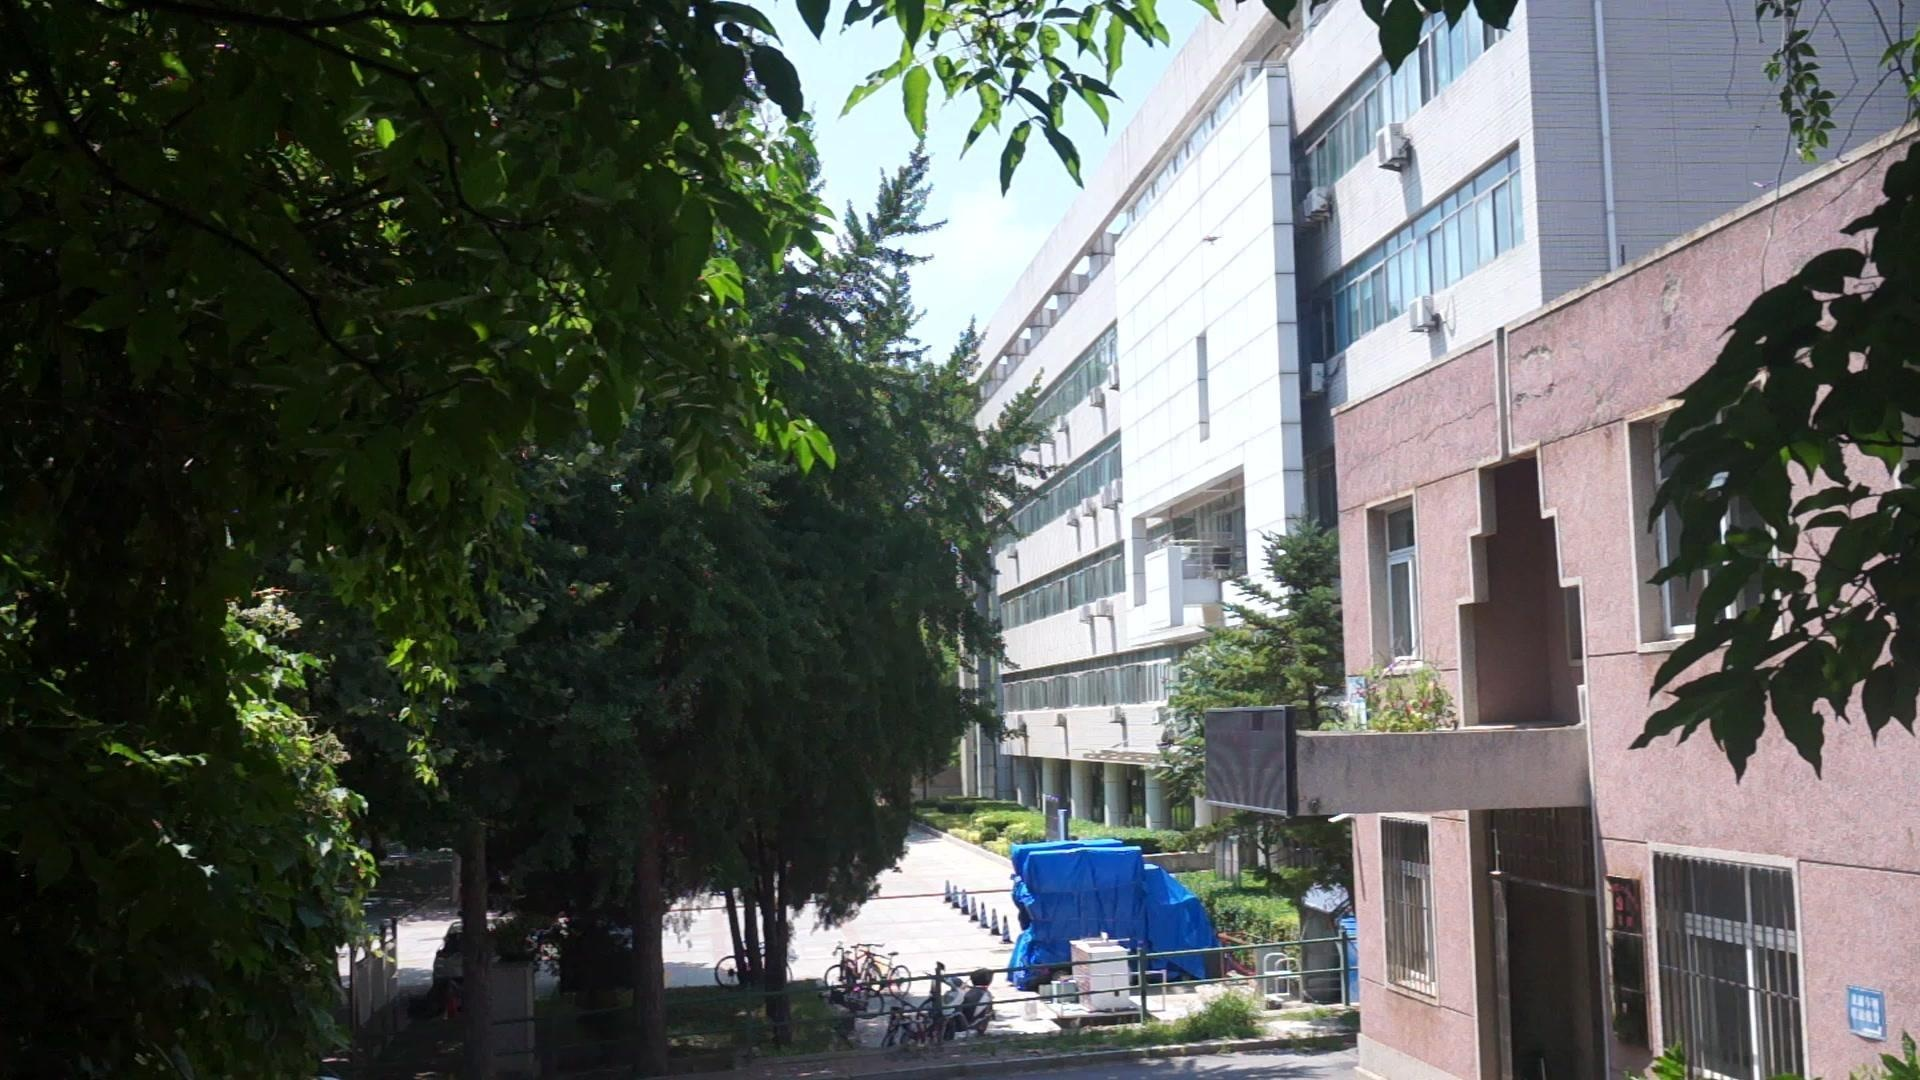UAV: (1201, 236, 1224, 247)
